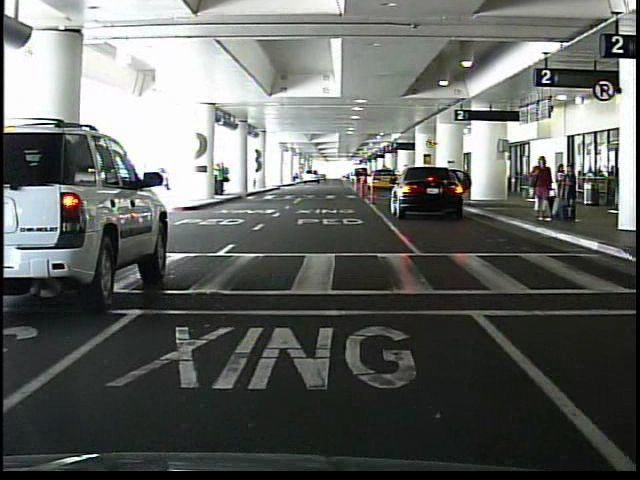person: (526, 154, 554, 221), (560, 163, 580, 223), (215, 162, 229, 198), (555, 164, 566, 200), (224, 165, 225, 196)
